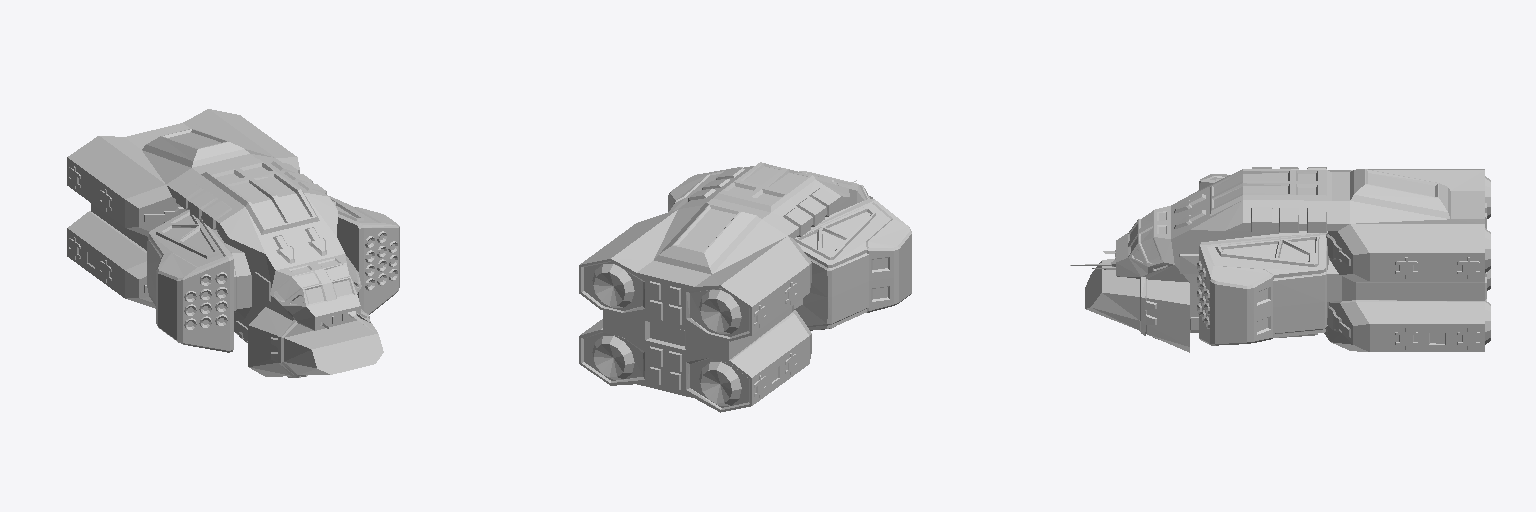
The picture shows the model from 3 angles: view 1: azimuth 30°, elevation 25°; view 2: azimuth 150°, elevation 25°; view 3: azimuth 270°, elevation 25°; orthographic projection.
Visible parts, largest first — view 1: Tur_MissileCorvette, Tur_MissileCorvetteLauncher; view 2: Tur_MissileCorvette, Tur_MissileCorvette_Engine, Tur_MissileCorvetteLauncher; view 3: Tur_MissileCorvette, Tur_MissileCorvetteLauncher, Tur_MissileCorvette_Engine.
Part boxes in pixels (left/top/right/bottom): Tur_MissileCorvette: left=67, top=109, right=383, bottom=377; Tur_MissileCorvetteLauncher: left=147, top=196, right=399, bottom=352; Tur_MissileCorvette: left=580, top=162, right=872, bottom=405; Tur_MissileCorvette_Engine: left=579, top=259, right=751, bottom=412; Tur_MissileCorvetteLauncher: left=668, top=167, right=911, bottom=330; Tur_MissileCorvette: left=1070, top=167, right=1484, bottom=352; Tur_MissileCorvetteLauncher: left=1197, top=174, right=1341, bottom=345; Tur_MissileCorvette_Engine: left=1485, top=176, right=1490, bottom=344.
Bounding box in the file's own units: 26.98 × 17.83 × 42.91.